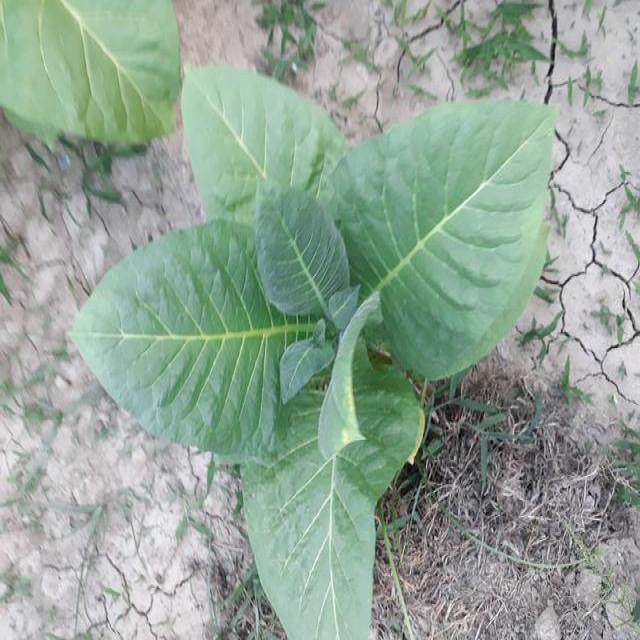crop: (78, 62, 556, 640)
